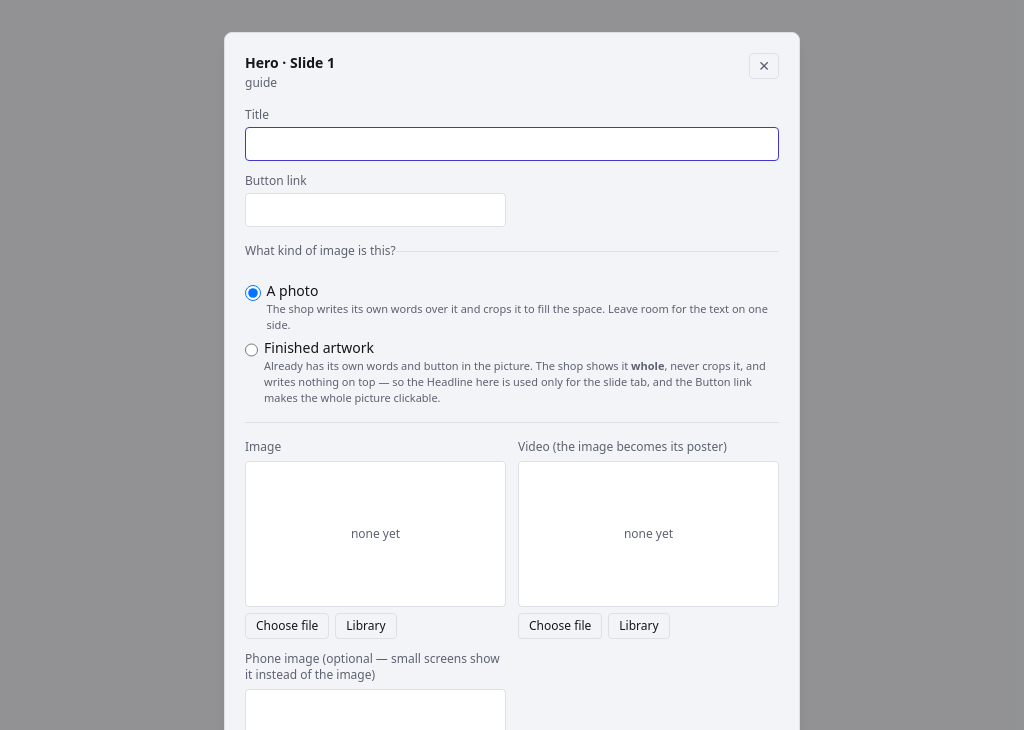
Scenario: HomeBannerModal image mode (the 2026-09-10 crop fix) › warns that a finished artwork with no link is a dead painted button
The width and height of the screenshot is (1024, 730).
Click the radio button labelled "Finished artwork".
click(252, 350)  # box left=245, top=342, right=258, bottom=358
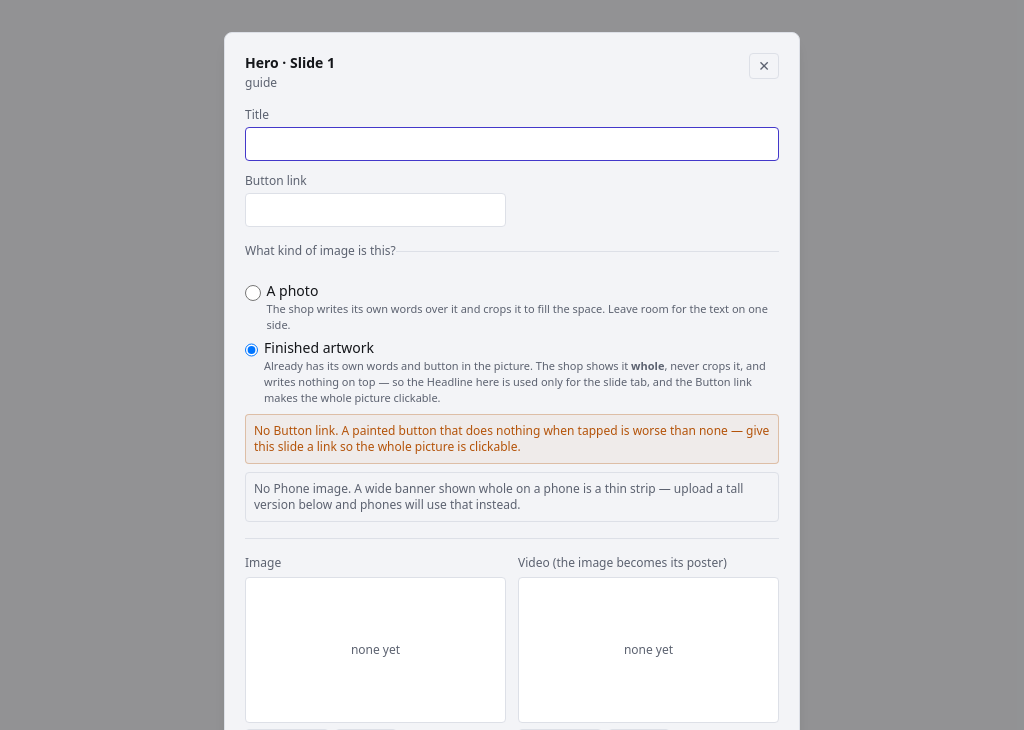
Now the text "No Button link" is shown, box left=254, top=422, right=769, bottom=454
